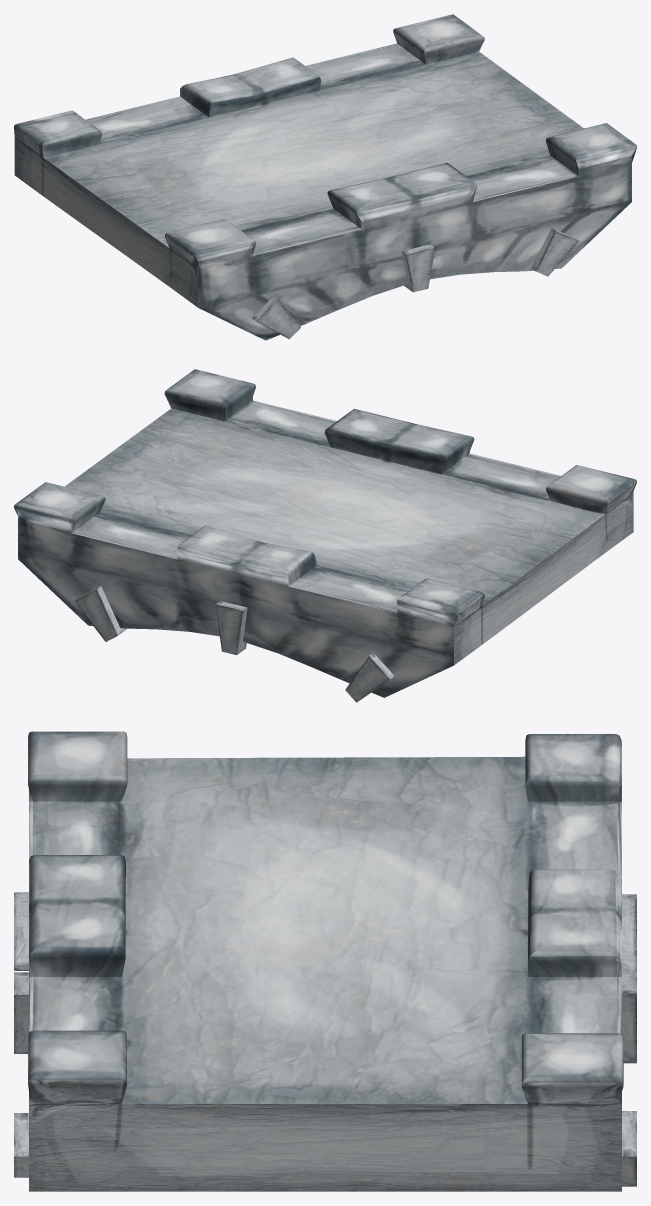
The model's file is castle-platform.fbx.
3 renders of one model, top to bottom at view 1: azimuth 30°, elevation 25°; view 2: azimuth 150°, elevation 25°; view 3: azimuth 270°, elevation 25°, orthographic. The views are drawn at different scales.
Visible parts, largest first — view 1: orb_mesh1; view 2: orb_mesh1; view 3: orb_mesh1.
Boxes of the visible parts, x1=… form: orb_mesh1: x1=14, y1=14, x2=636, y2=340; orb_mesh1: x1=14, y1=369, x2=636, y2=702; orb_mesh1: x1=14, y1=731, x2=636, y2=1191.
Bounding box in the file's own units: 12.63 × 3.64 × 9.44.
